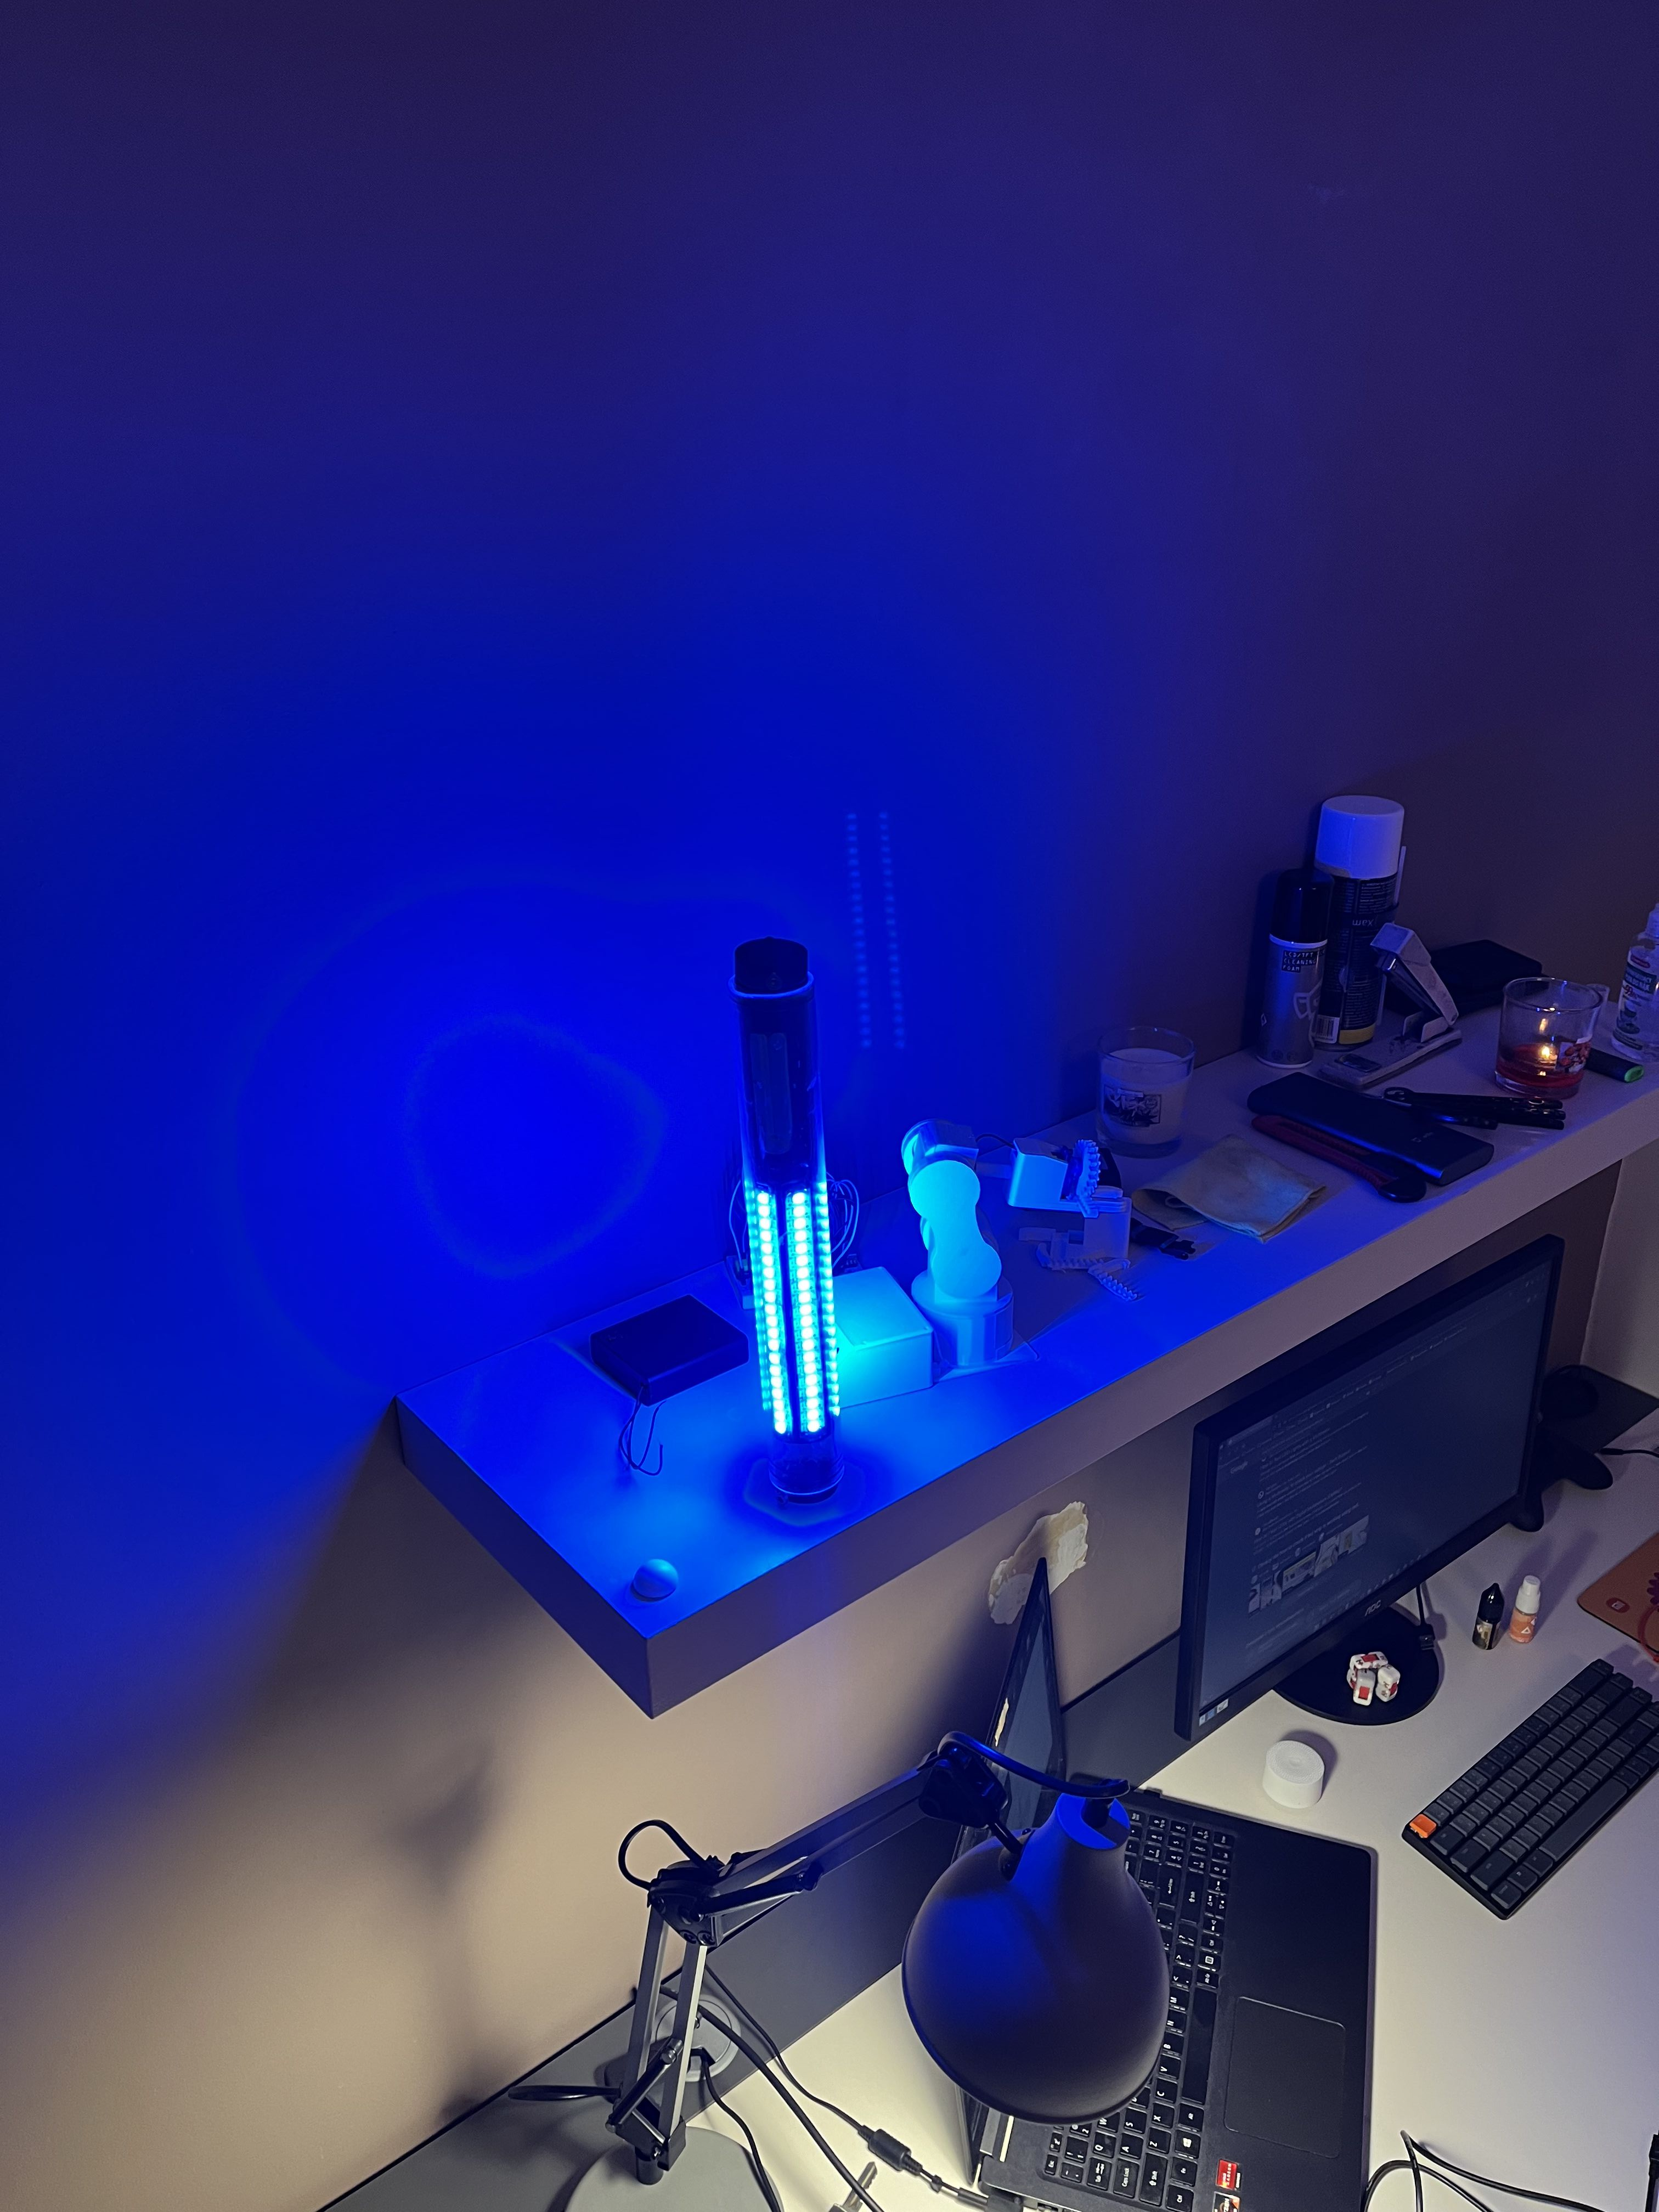blue: (737, 984, 843, 1505)
